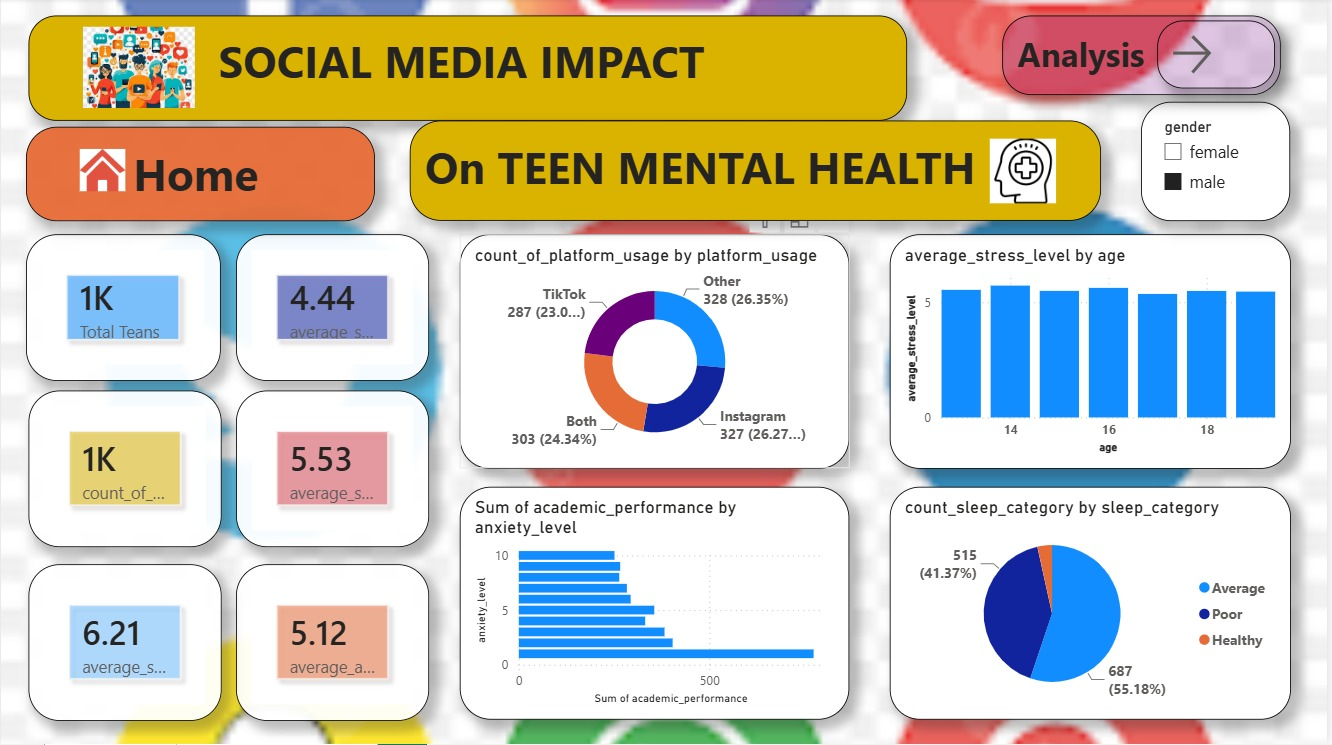

The dashboard page shown, as its layout file describes it:
{"tool":"powerbi","page":{"name":"Home_page","canvas":[1280,720],"ordinal":0},"visuals":[{"type":"cardVisual","fields":{"Data":["Teen_Mental_Health_Dataset.Total Teans"]},"box":[24.7,227.8,188,141.3],"z":0},{"type":"cardVisual","fields":{"Data":["Teen_Mental_Health_Dataset.average_social_hours"]},"box":[226.4,227.8,186.6,141.3],"z":1000},{"type":"cardVisual","fields":{"Data":["Teen_Mental_Health_Dataset.count_of_platform_usage"]},"box":[26.1,378.7,186.6,150.9],"z":2000},{"type":"cardVisual","fields":{"Data":["Teen_Mental_Health_Dataset.average_stress_level"]},"box":[226.4,378.7,186.6,150.9],"z":3000},{"type":"cardVisual","fields":{"Data":["Teen_Mental_Health_Dataset.average_anxiety_level"]},"box":[226.4,546.1,186.6,150.9],"z":4000},{"type":"cardVisual","fields":{"Data":["Teen_Mental_Health_Dataset.average_sleep_hours"]},"box":[26.1,546.1,186.6,150.9],"z":5000},{"type":"donutChart","fields":{"Y":["Teen_Mental_Health_Dataset.count_of_platform_usage"],"Category":["Teen_Mental_Health_Dataset.platform_usage"]},"box":[443.2,227.8,376,226.4],"z":6000},{"type":"clusteredColumnChart","fields":{"Category":["Teen_Mental_Health_Dataset.age"],"Y":["Teen_Mental_Health_Dataset.average_stress_level"]},"box":[857.6,227.8,387,226.4],"z":7000},{"type":"pieChart","fields":{"Y":["Teen_Mental_Health_Dataset.count_sleep_category"],"Category":["Teen_Mental_Health_Dataset.sleep_category"]},"box":[857.6,472,387,225],"z":8000},{"type":"clusteredBarChart","fields":{"Y":["Sum(Teen_Mental_Health_Dataset.academic_performance)"],"Category":["Teen_Mental_Health_Dataset.anxiety_level"]},"box":[443.2,472,376,225],"z":9000},{"type":"slicer","fields":{"Values":["Teen_Mental_Health_Dataset.gender"]},"box":[1100.5,100.2,144.1,115.3],"z":10000},{"type":"textbox","box":[26.1,16.5,848,101.5],"z":11000},{"type":"textbox","box":[24.3,124.3,337.1,91.4],"z":12000},{"type":"image","box":[75.5,93.3,43.9,146.8],"z":13000},{"type":"image","box":[54.9,27.4,157.8,78.2],"z":14000},{"type":"image","box":[942.7,124.9,86.4,63.1],"z":15000},{"type":"textbox","box":[394.3,118.6,667.1,97.1],"z":16000},{"type":"image","box":[954.3,105.7,64.3,121.4],"z":17000},{"type":"textbox","box":[966,16.5,269,76.8],"z":18000},{"type":"actionButton","box":[1115.6,22,113.9,65.9],"z":19000}]}

Visuals, with their boxes in screenshot pixels (x1, y1, x2, y2), scaled from the page's 1280x720 canvas onto the 1332x745 screenshot:
cardVisual - Teen_Mental_Health_Dataset.Total Teans: box=[26, 236, 221, 382]
cardVisual - Teen_Mental_Health_Dataset.average_social_hours: box=[236, 236, 430, 382]
cardVisual - Teen_Mental_Health_Dataset.count_of_platform_usage: box=[27, 392, 221, 548]
cardVisual - Teen_Mental_Health_Dataset.average_stress_level: box=[236, 392, 430, 548]
cardVisual - Teen_Mental_Health_Dataset.average_anxiety_level: box=[236, 565, 430, 721]
cardVisual - Teen_Mental_Health_Dataset.average_sleep_hours: box=[27, 565, 221, 721]
donutChart - Teen_Mental_Health_Dataset.count_of_platform_usage x Teen_Mental_Health_Dataset.platform_usage: box=[461, 236, 852, 470]
clusteredColumnChart - Teen_Mental_Health_Dataset.age x Teen_Mental_Health_Dataset.average_stress_level: box=[892, 236, 1295, 470]
pieChart - Teen_Mental_Health_Dataset.count_sleep_category x Teen_Mental_Health_Dataset.sleep_category: box=[892, 488, 1295, 721]
clusteredBarChart - Sum(Teen_Mental_Health_Dataset.academic_performance) x Teen_Mental_Health_Dataset.anxiety_level: box=[461, 488, 852, 721]
slicer - Teen_Mental_Health_Dataset.gender: box=[1145, 104, 1295, 223]
textbox: box=[27, 17, 910, 122]
textbox: box=[25, 129, 376, 223]
image: box=[79, 97, 124, 248]
image: box=[57, 28, 221, 109]
image: box=[981, 129, 1071, 195]
textbox: box=[410, 123, 1105, 223]
image: box=[993, 109, 1060, 235]
textbox: box=[1005, 17, 1285, 97]
actionButton: box=[1161, 23, 1279, 91]
